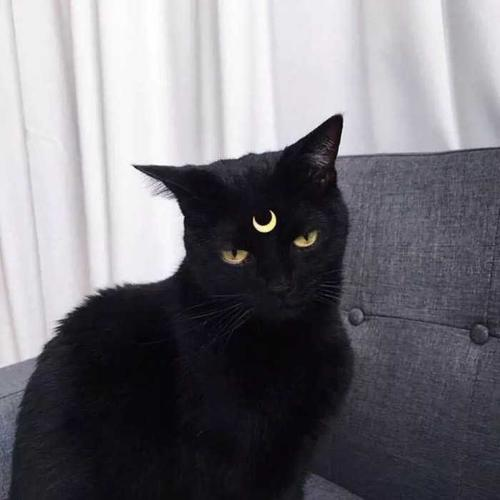cat: (130, 113, 411, 332)
